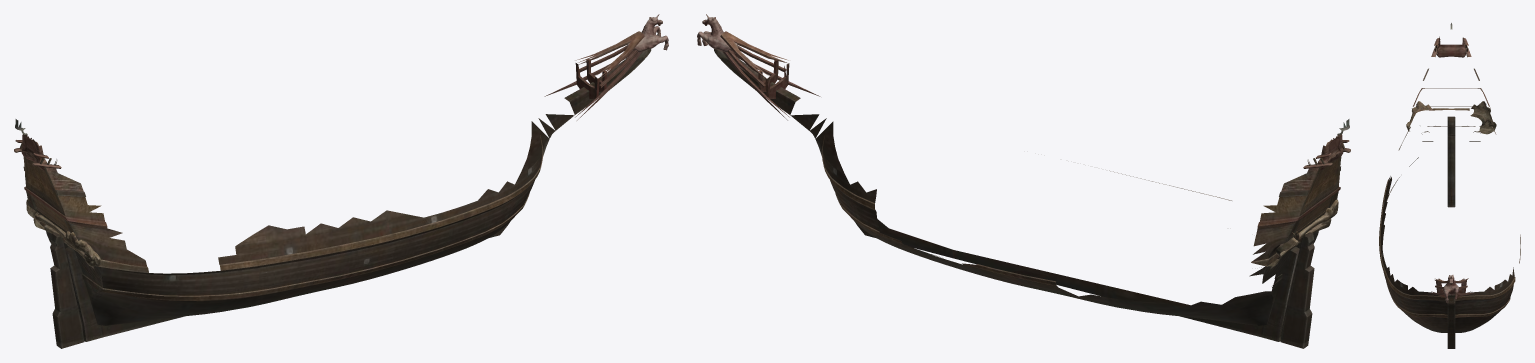
File: wreck.glb
3 renders of one model, left to right at view 1: azimuth 30°, elevation 25°; view 2: azimuth 150°, elevation 25°; view 3: azimuth 270°, elevation 25°, orthographic. The views are drawn at different scales.
Visible parts, largest first — view 1: hull; view 2: hull; view 3: hull.
Boxes of the visible parts, <box> form: hull: <box>14,14,668,348</box>; hull: <box>697,14,1350,348</box>; hull: <box>1379,23,1520,348</box>.
Bounding box in the file's own units: 18.56 × 6.5 × 4.88.
1 material, 1 textured.
